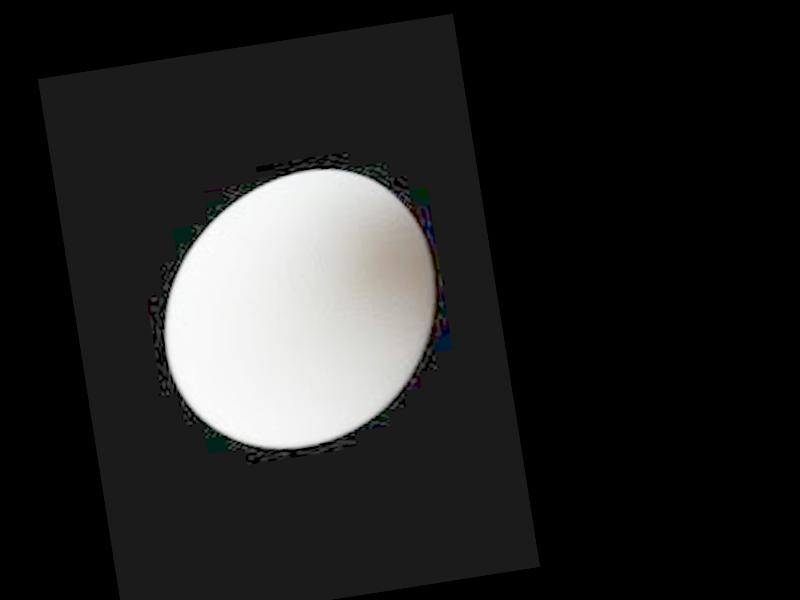Eggs: (142, 154, 452, 463)
